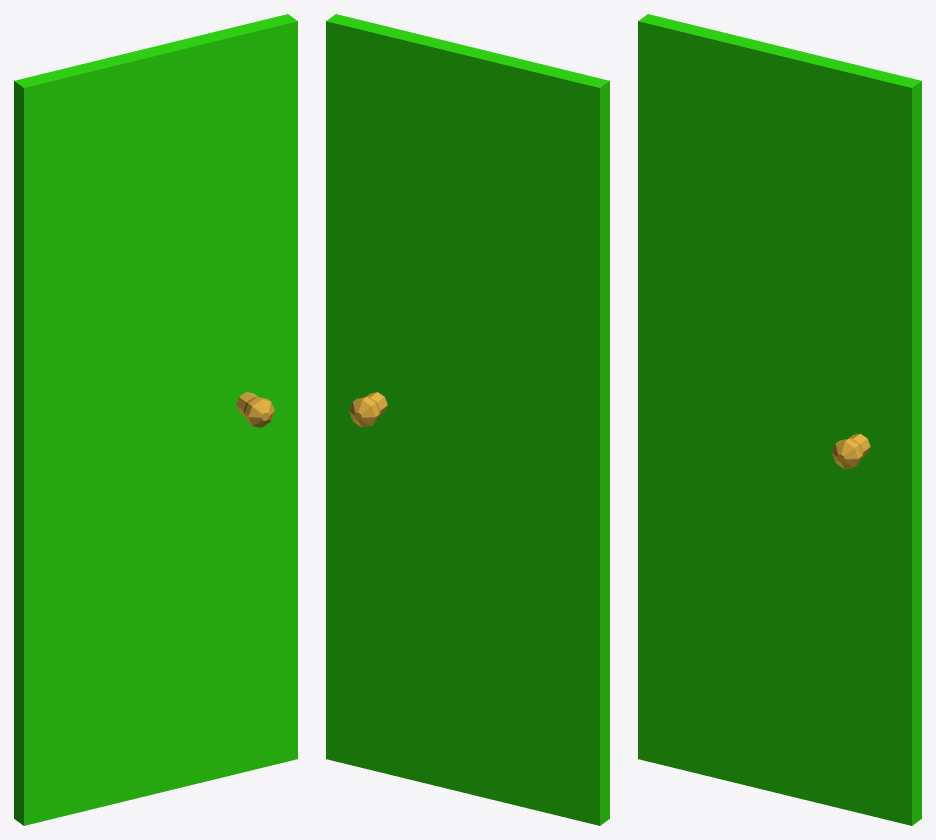
File: DoubleDoorLeft.fbx
3 renders of one model, left to right at view 1: azimuth 30°, elevation 25°; view 2: azimuth 150°, elevation 25°; view 3: azimuth 330°, elevation 25°, orthographic.
Parts seen in each view (by area): view 1: BP10_DubbledoorLeft; view 2: BP10_DubbledoorLeft; view 3: BP10_DubbledoorLeft.
Part boxes in pixels (x1=…): BP10_DubbledoorLeft: x1=14, y1=14, x2=297, y2=825; BP10_DubbledoorLeft: x1=326, y1=14, x2=609, y2=825; BP10_DubbledoorLeft: x1=638, y1=14, x2=921, y2=825.
Bounding box in the file's own units: 80 × 206 × 24.62.
